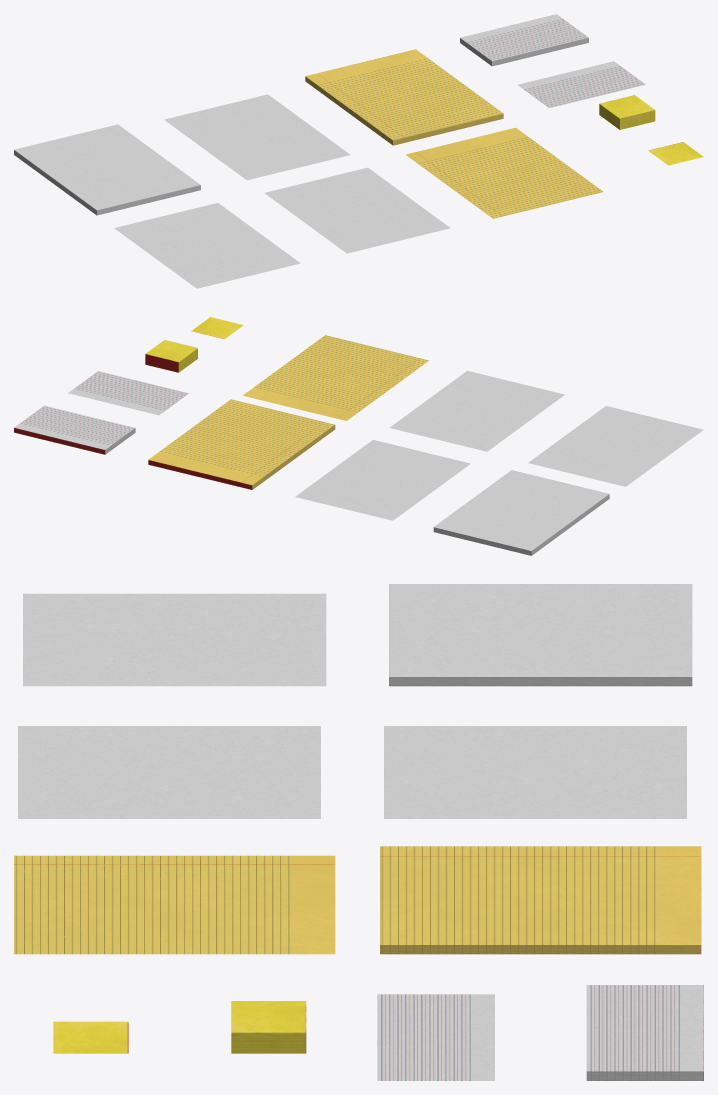
Rendered from office_notepads.glb.
3 renders of one model, top to bottom at view 1: azimuth 30°, elevation 25°; view 2: azimuth 150°, elevation 25°; view 3: azimuth 270°, elevation 25°, orthographic. The views are drawn at different scales.
Visible parts, largest first — view 1: office_notepads_yellow_sheet; view 2: office_notepads_yellow_sheet; view 3: office_notepads_yellow_sheet.
Part boxes in pixels (x1,y1,x2,y2): office_notepads_yellow_sheet: [14, 14, 703, 288]; office_notepads_yellow_sheet: [14, 317, 703, 555]; office_notepads_yellow_sheet: [14, 584, 703, 1080].
Size of the model in its own units: 1.1 by 0.0219 by 0.6598.
Materials: 1 (1 with a texture image).
